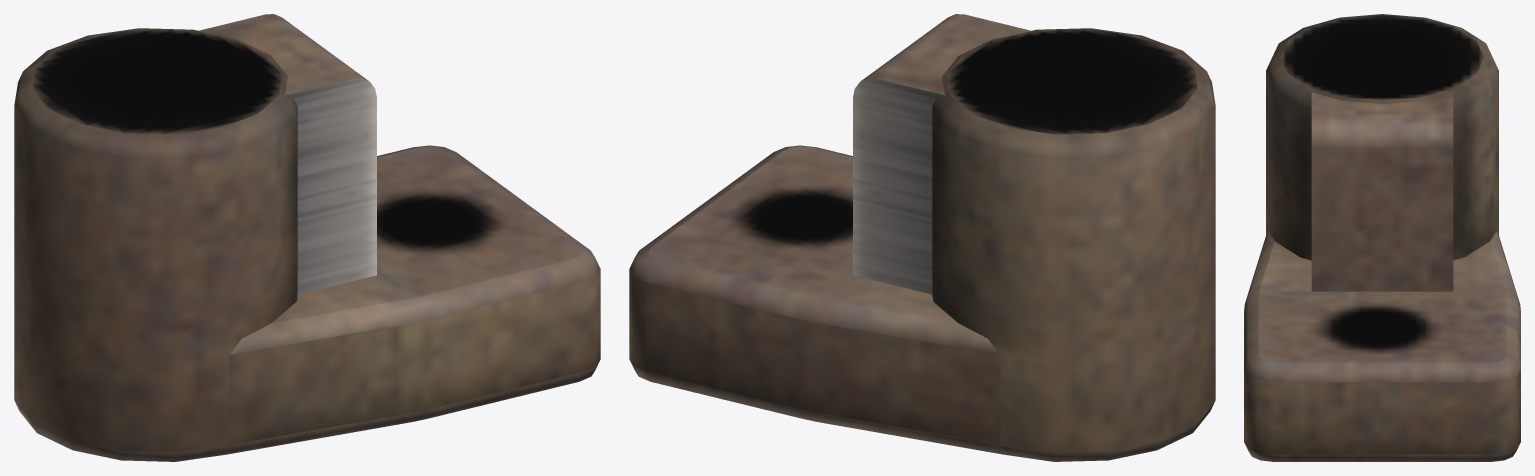
The model's file is ammomaker_ReloadingPressDiePlate.fbx.
3 views of the same model, side by side, from view 1: azimuth 30°, elevation 25°; view 2: azimuth 150°, elevation 25°; view 3: azimuth 270°, elevation 25° (orthographic). The views are drawn at different scales.
Parts seen in each view (by area): view 1: ammomaker_ReloadingPressDiePlate; view 2: ammomaker_ReloadingPressDiePlate; view 3: ammomaker_ReloadingPressDiePlate.
Part boxes in pixels (x1,y1,x2,y2): ammomaker_ReloadingPressDiePlate: [14, 14, 600, 461]; ammomaker_ReloadingPressDiePlate: [629, 14, 1215, 461]; ammomaker_ReloadingPressDiePlate: [1244, 14, 1520, 461].
Bounding box in the file's own units: 6.35 × 4 × 3.8.
